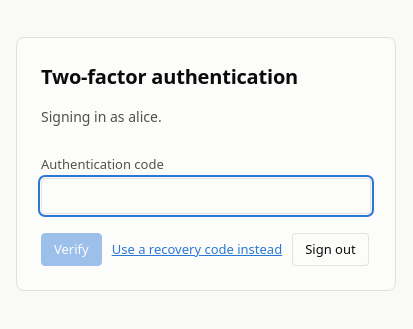
TotpStep › busy shows the busy string
Type "123456" into the field labelled "Authentication code" at [206, 196], box [41,178,371,214]
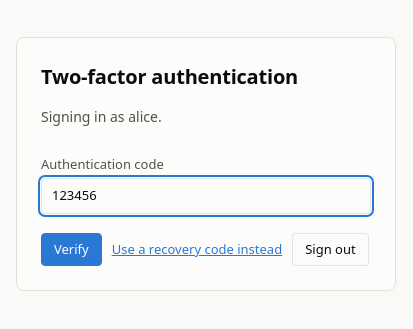
Click the button "Verify" at [71, 250], box [41,233,102,266]
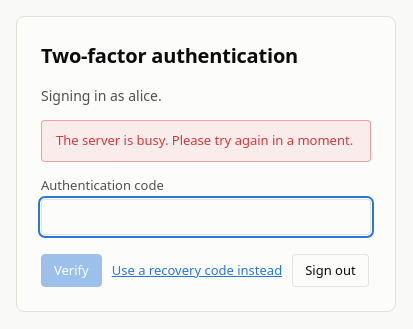
Result: the message reads "The server is busy. Please try again in a moment." at [56,131,353,149]
